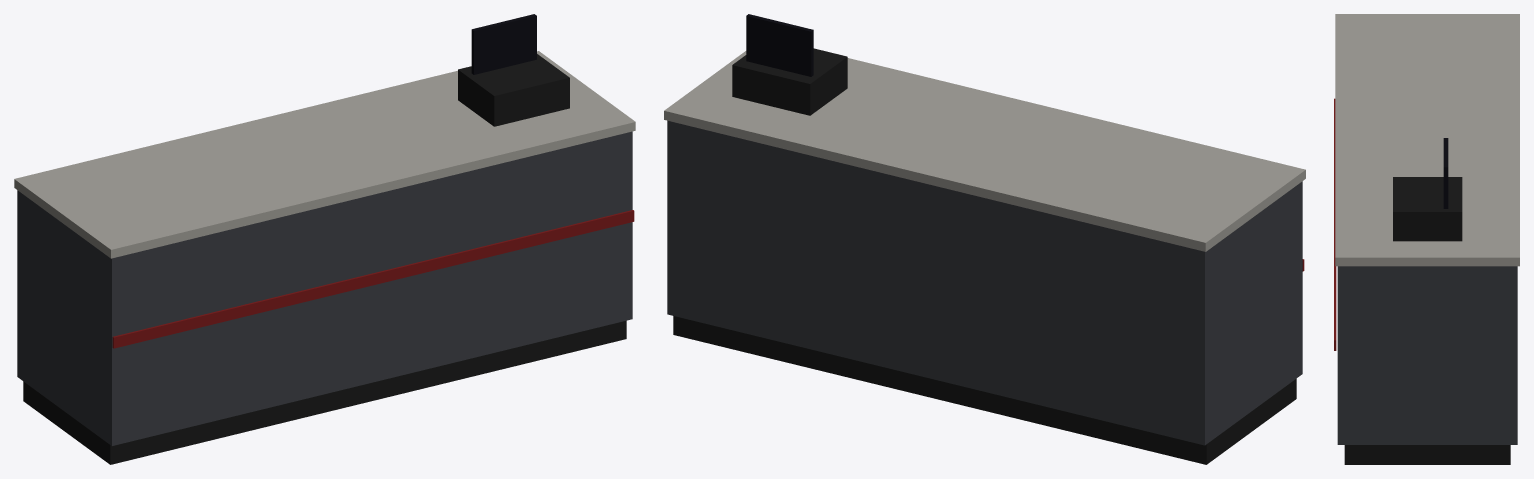
Rendered from counter_250_100_80.glb.
3 renders of one model, left to right at view 1: azimuth 30°, elevation 25°; view 2: azimuth 150°, elevation 25°; view 3: azimuth 270°, elevation 25°, orthographic. The views are drawn at different scales.
Visible parts, largest first — view 1: counter_250_100_80; view 2: counter_250_100_80; view 3: counter_250_100_80.
Part boxes in pixels (x1,y1,x2,y2): counter_250_100_80: (14,14,635,464); counter_250_100_80: (664,14,1305,464); counter_250_100_80: (1334,14,1519,464).
Bounding box in the file's own units: 2.5 × 1.34 × 0.805.
